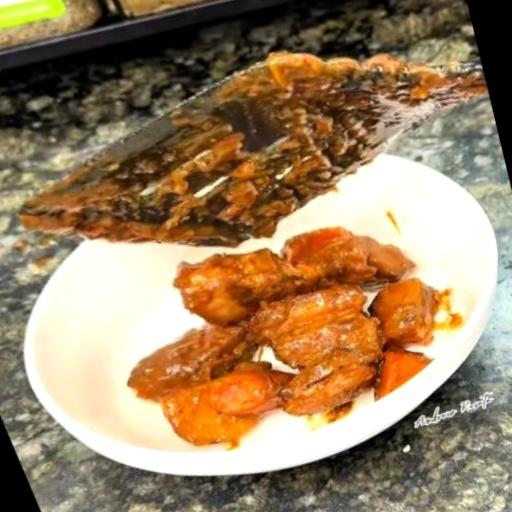pork caldereta: (129, 231, 433, 438)
